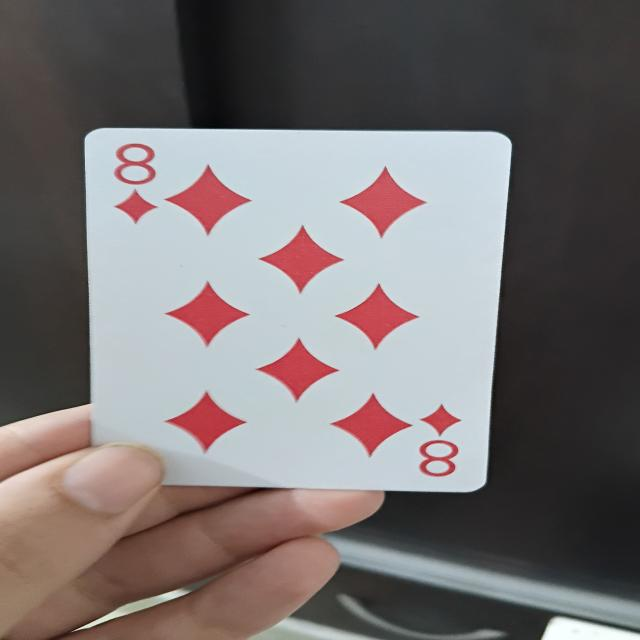8D: (92, 122, 493, 486)
